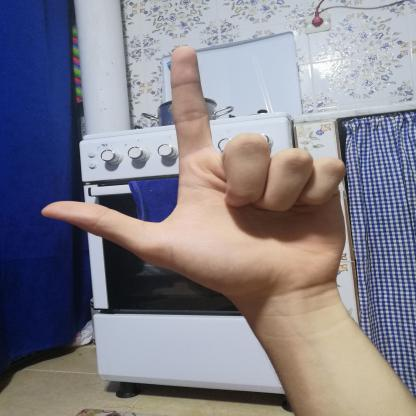LAAM: (14, 29, 370, 310)
